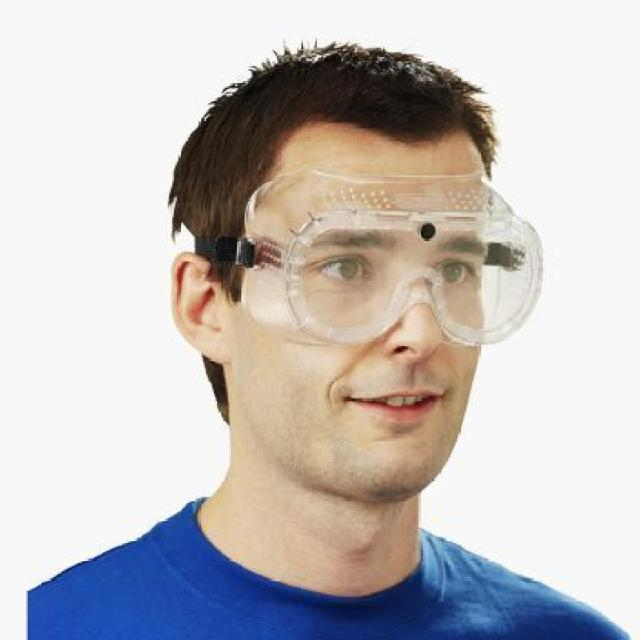Goggles: (162, 164, 567, 365)
